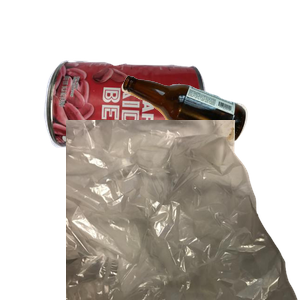glass: (119, 73, 300, 207)
metal: (41, 58, 240, 207)
plastic: (76, 151, 270, 300)
trash: (66, 120, 300, 300)
